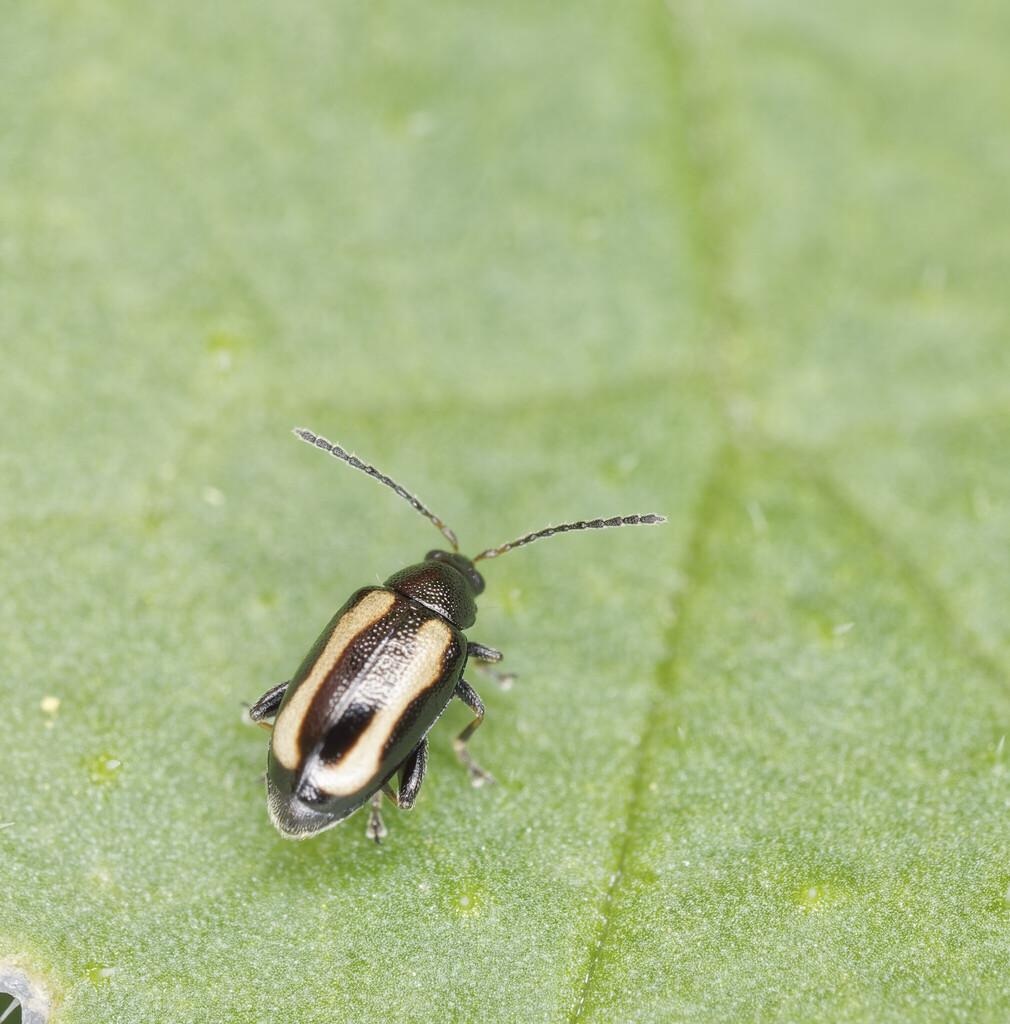flea_beetle: (159, 354, 734, 940)
